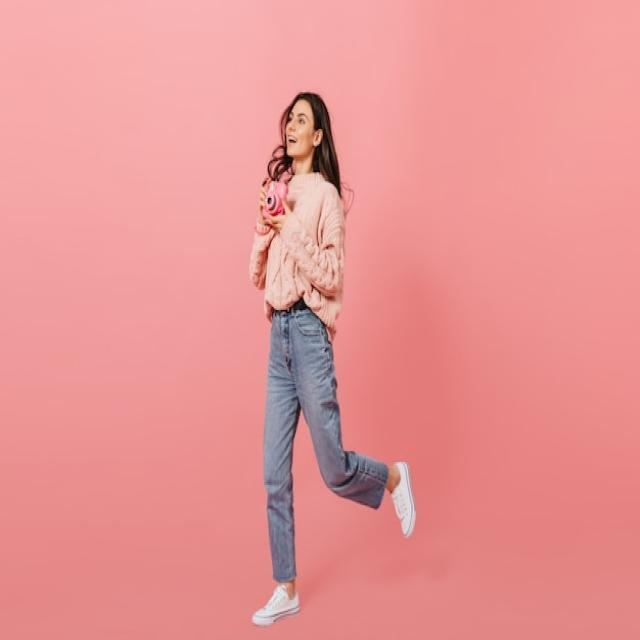Person: (250, 93, 416, 624)
